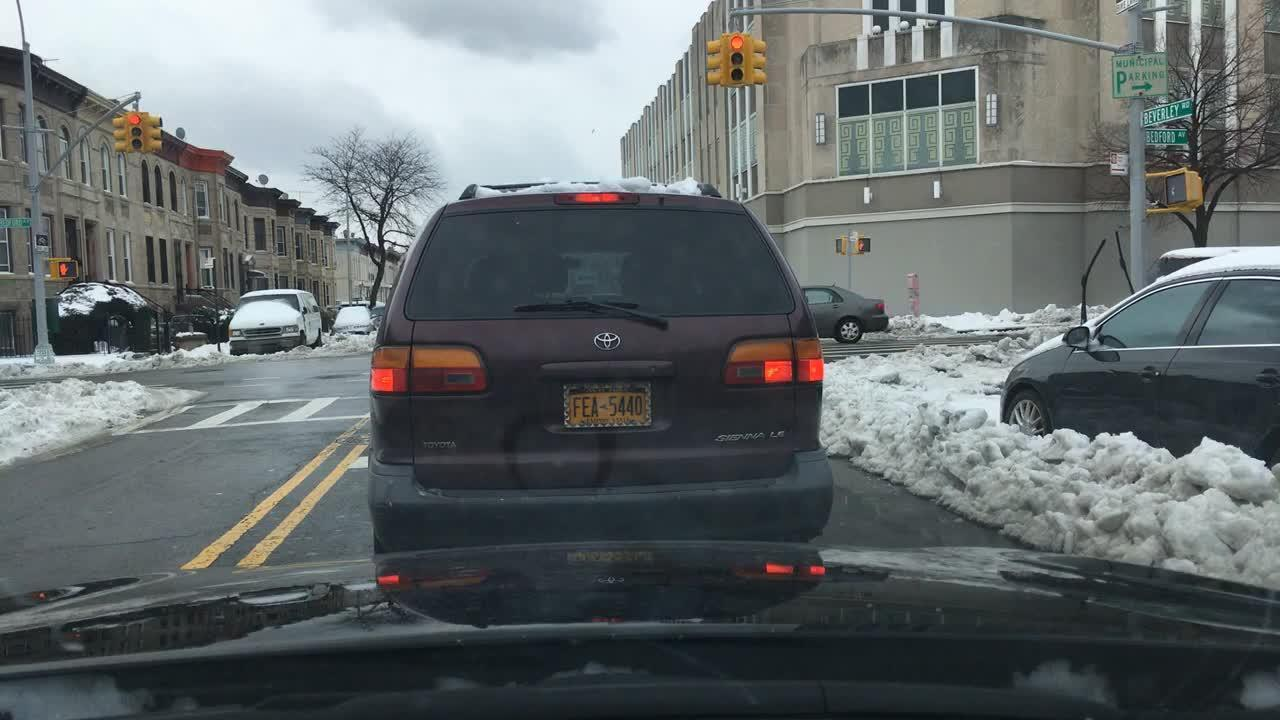Toyota: (588, 319, 632, 358)
